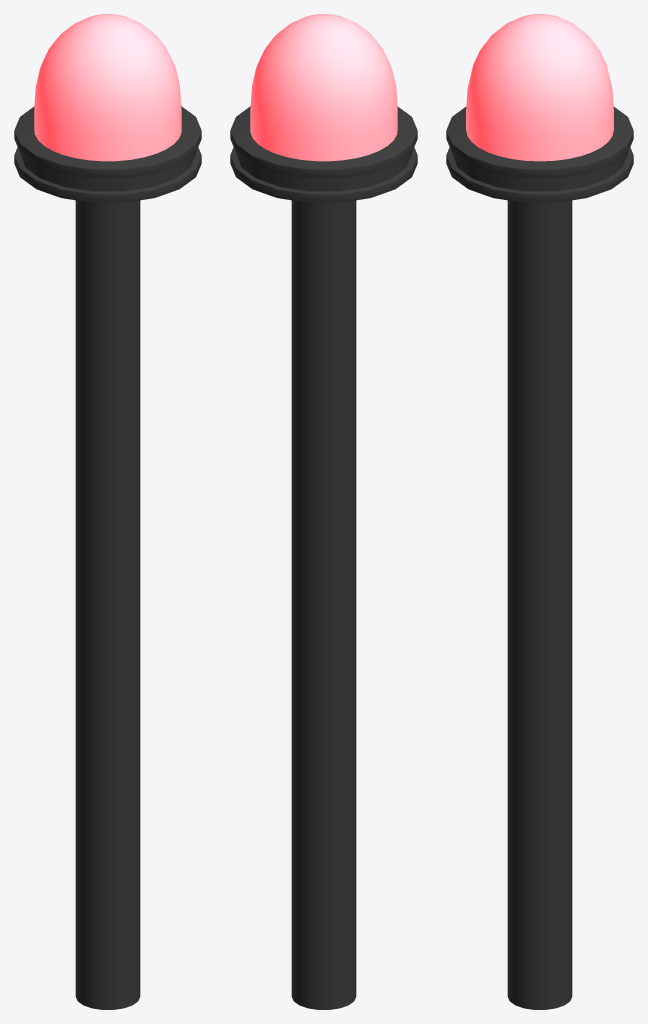
Rendered from MiniLight .fbx.
3 views of the same model, side by side, from view 1: azimuth 30°, elevation 25°; view 2: azimuth 150°, elevation 25°; view 3: azimuth 270°, elevation 25° (orthographic).
Visible parts, largest first — view 1: MiniLight; view 2: MiniLight; view 3: MiniLight.
Part boxes in pixels (left/top/right/bottom): MiniLight: left=14, top=14, right=201, bottom=1009; MiniLight: left=230, top=14, right=417, bottom=1009; MiniLight: left=446, top=14, right=633, bottom=1009.
Bounding box in the file's own units: 6.83 × 39.85 × 6.93.
